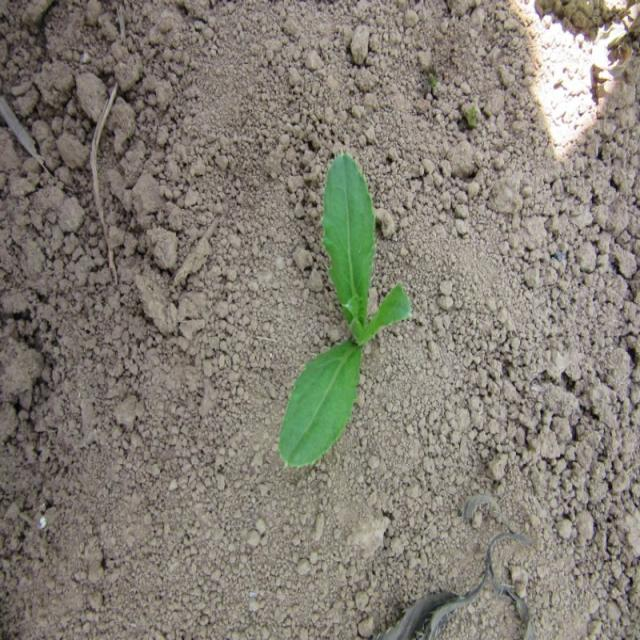field_thistle: (264, 126, 411, 483)
